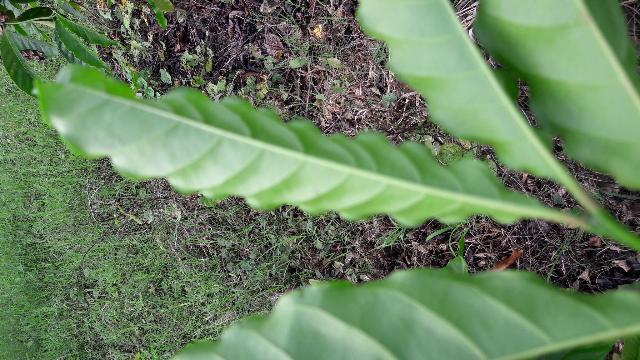healthy: (33, 61, 563, 235)
